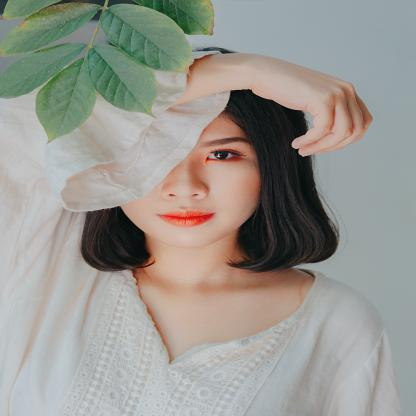Eye: (202, 144, 250, 166)
Mouth: (154, 208, 216, 228)
Nose: (156, 164, 212, 203)
